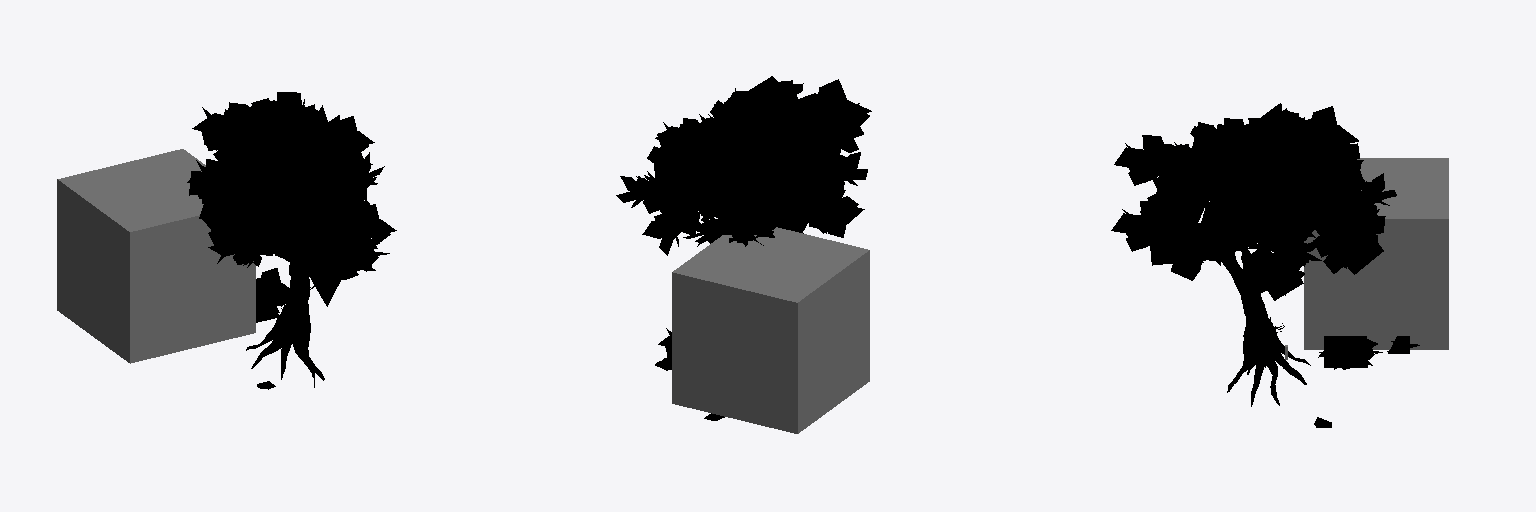
Rendered from LargeOakTree.obj.
3 views of the same model, side by side, from view 1: azimuth 30°, elevation 25°; view 2: azimuth 150°, elevation 25°; view 3: azimuth 270°, elevation 25° (orthographic).
Visible parts, largest first — view 1: BuildingScale, LargeOakTree_group cryExportNode_LargeOakTree Canopy TwiggyBunch, LargeOakTree_group cryExportNode_LargeOakTree Canopy CanopyBunch, LargeOakTree_group cryExportNode_LargeOakTree Canopy Twigs_A_002, LargeOakTree LargeOakTree_group cryExportNode_LargeOakTree, LargeOakTree_group cryExportNode_LargeOakTree Canopy Twigs_CARD1; view 2: BuildingScale, LargeOakTree_group cryExportNode_LargeOakTree Canopy TwiggyBunch, LargeOakTree_group cryExportNode_LargeOakTree Canopy CanopyBunch, LargeOakTree_group cryExportNode_LargeOakTree Canopy Twigs_A_002, LargeOakTree_group cryExportNode_LargeOakTree TwiggyBunch_003 Ca; view 3: BuildingScale, LargeOakTree_group cryExportNode_LargeOakTree Canopy TwiggyBunch, LargeOakTree_group cryExportNode_LargeOakTree Canopy Twigs_A_002, LargeOakTree_group cryExportNode_LargeOakTree Canopy CanopyBunch, LargeOakTree LargeOakTree_group cryExportNode_LargeOakTree, LargeOakTree_group cryExportNode_LargeOakTree Canopy Twigs_CARD1, LargeOakTree_group cryExportNode_LargeOakTree TwiggyBunch_003 Ca, Twigs_A_002 TwiggyBunch_001.
Part boxes in pixels (left/top/right/bottom): BuildingScale: left=57, top=149, right=255, bottom=363; LargeOakTree_group cryExportNode_LargeOakTree Canopy TwiggyBunch: left=203, top=95, right=390, bottom=297; LargeOakTree_group cryExportNode_LargeOakTree Canopy CanopyBunch: left=187, top=102, right=389, bottom=281; LargeOakTree_group cryExportNode_LargeOakTree Canopy Twigs_A_002: left=189, top=92, right=396, bottom=266; LargeOakTree LargeOakTree_group cryExportNode_LargeOakTree: left=246, top=125, right=351, bottom=387; LargeOakTree_group cryExportNode_LargeOakTree Canopy Twigs_CARD1: left=229, top=98, right=363, bottom=306; BuildingScale: left=672, top=227, right=869, bottom=433; LargeOakTree_group cryExportNode_LargeOakTree Canopy TwiggyBunch: left=620, top=80, right=860, bottom=246; LargeOakTree_group cryExportNode_LargeOakTree Canopy CanopyBunch: left=680, top=79, right=871, bottom=242; LargeOakTree_group cryExportNode_LargeOakTree Canopy Twigs_A_002: left=616, top=76, right=867, bottom=255; LargeOakTree_group cryExportNode_LargeOakTree TwiggyBunch_003 Ca: left=647, top=130, right=702, bottom=175; BuildingScale: left=1304, top=158, right=1448, bottom=349; LargeOakTree_group cryExportNode_LargeOakTree Canopy TwiggyBunch: left=1136, top=108, right=1389, bottom=295; LargeOakTree_group cryExportNode_LargeOakTree Canopy Twigs_A_002: left=1127, top=103, right=1396, bottom=300; LargeOakTree_group cryExportNode_LargeOakTree Canopy CanopyBunch: left=1111, top=106, right=1358, bottom=251; LargeOakTree LargeOakTree_group cryExportNode_LargeOakTree: left=1156, top=174, right=1349, bottom=406; LargeOakTree_group cryExportNode_LargeOakTree Canopy Twigs_CARD1: left=1150, top=110, right=1343, bottom=265; LargeOakTree_group cryExportNode_LargeOakTree TwiggyBunch_003 Ca: left=1275, top=179, right=1335, bottom=215; Twigs_A_002 TwiggyBunch_001: left=1330, top=336, right=1366, bottom=362.
Bounding box in the file's own units: 1816 × 2333 × 2331.